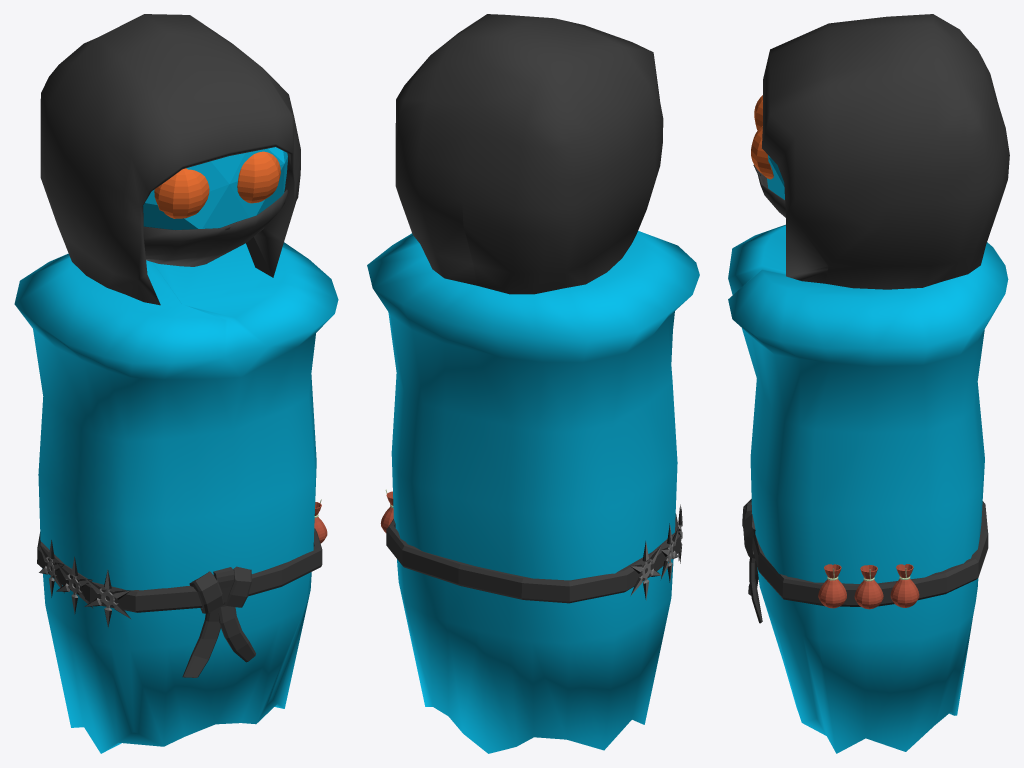
File: TeleportEnemy.fbx
3 renders of one model, left to right at view 1: azimuth 30°, elevation 25°; view 2: azimuth 150°, elevation 25°; view 3: azimuth 270°, elevation 25°, orthographic. The views are drawn at different scales.
Parts seen in each view (by area): view 1: Cube.018, Cube.020, Cube.022, Cube.021, Sphere.005, Cube.026, Cube.025; view 2: Cube.018, Cube.020, Cube.022, Cube.024; view 3: Cube.018, Cube.020, Cube.022, Sphere.007, Sphere.006, Sphere.008, Sphere.005.
Boxes of the visible parts, <box> form: Cube.018: <box>14,147,338,753</box>; Cube.020: <box>40,14,300,305</box>; Cube.022: <box>37,528,322,677</box>; Cube.021: <box>143,189,287,266</box>; Sphere.005: <box>154,151,280,218</box>; Cube.026: <box>84,569,131,627</box>; Cube.025: <box>56,556,92,614</box>; Cube.018: <box>367,231,699,753</box>; Cube.020: <box>395,14,663,294</box>; Cube.022: <box>386,513,680,603</box>; Cube.024: <box>630,541,661,600</box>; Cube.018: <box>728,155,1008,753</box>; Cube.020: <box>762,14,1009,289</box>; Cube.022: <box>742,499,988,623</box>; Sphere.007: <box>854,565,883,609</box>; Sphere.006: <box>890,564,919,607</box>; Sphere.008: <box>818,564,846,608</box>; Sphere.005: <box>751,95,773,179</box>.
Bounding box in the file's own units: 80.92 × 197 × 72.89.
